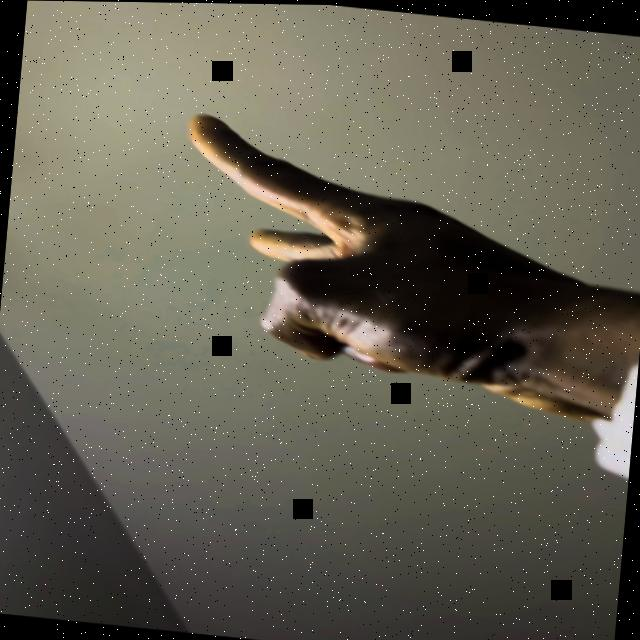Scissors: (157, 106, 636, 421)
